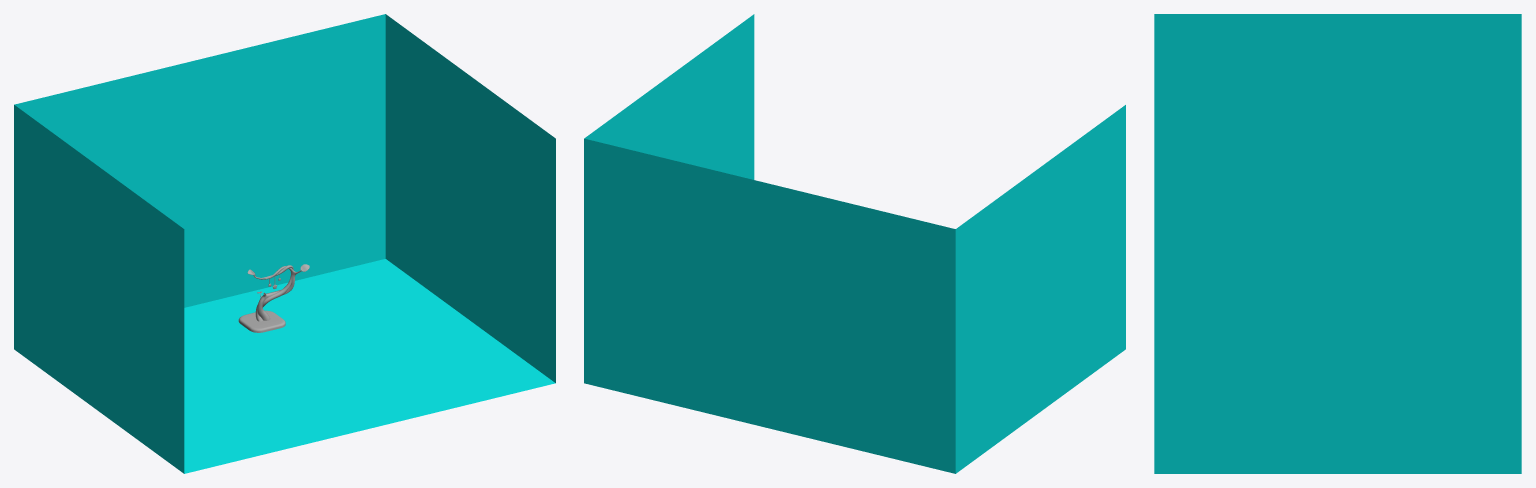
The model's file is SM_BirdMiniGame.fbx.
The picture shows the model from 3 angles, left to right: view 1: azimuth 30°, elevation 25°; view 2: azimuth 150°, elevation 25°; view 3: azimuth 270°, elevation 25°; orthographic projection. The views are drawn at different scales.
Visible parts, largest first — view 1: SM_BirdMiniGame; view 2: SM_BirdMiniGame; view 3: SM_BirdMiniGame.
Part boxes in pixels (x1,y1,x2,y2): SM_BirdMiniGame: [14, 14, 555, 473]; SM_BirdMiniGame: [584, 14, 1125, 473]; SM_BirdMiniGame: [1154, 14, 1521, 473].
Size of the model in its own units: 908 by 571 by 720.
